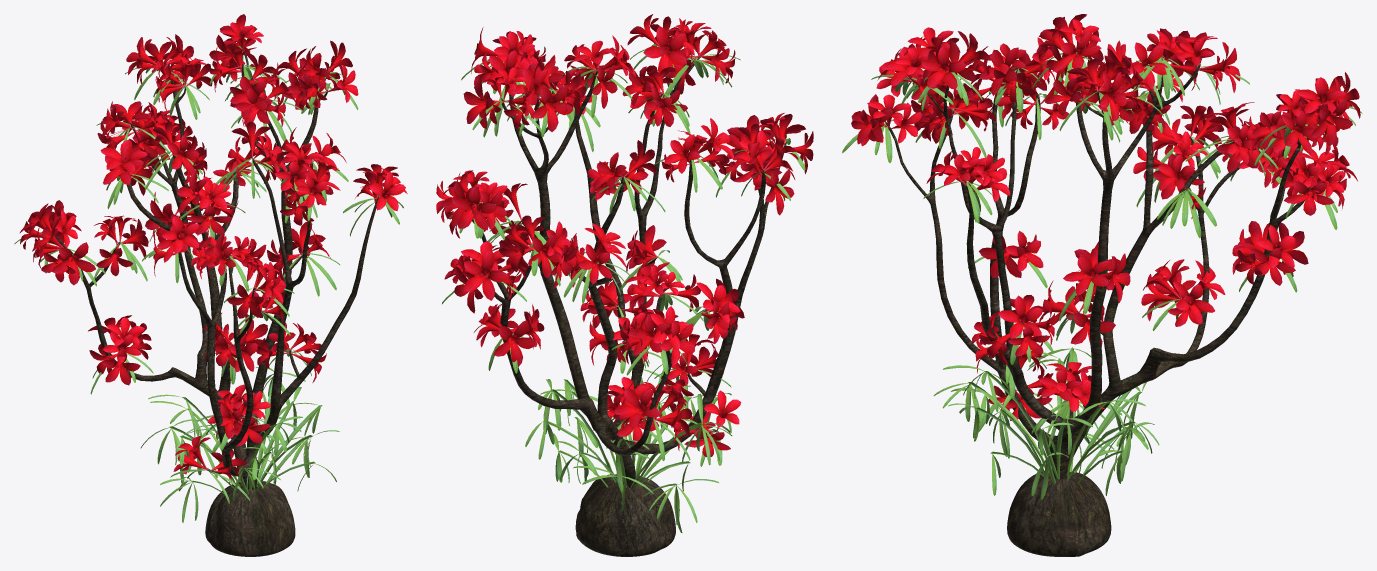
The picture shows the model from 3 angles, left to right: view 1: azimuth 30°, elevation 25°; view 2: azimuth 150°, elevation 25°; view 3: azimuth 270°, elevation 25°; orthographic projection. The views are drawn at different scales.
Parts seen in each view (by area): view 1: Flowers, TrunkandBranches, Leaves, Pulps; view 2: Flowers, TrunkandBranches, Leaves, Pulps; view 3: Flowers, TrunkandBranches, Leaves, Pulps.
Part boxes in pixels (<box>): Flowers: <box>19,14,407,484</box>; TrunkandBranches: <box>54,49,379,556</box>; Leaves: <box>14,46,403,522</box>; Pulps: <box>28,31,393,448</box>; Flowers: <box>436,14,813,456</box>; TrunkandBranches: <box>472,56,786,556</box>; Leaves: <box>442,43,805,532</box>; Pulps: <box>450,29,781,443</box>; Flowers: <box>851,14,1360,420</box>; TrunkandBranches: <box>884,56,1317,556</box>; Leaves: <box>842,52,1362,499</box>; Pulps: <box>864,32,1349,405</box>.
Size of the model in its own units: 39.63 by 61.57 by 54.63.
